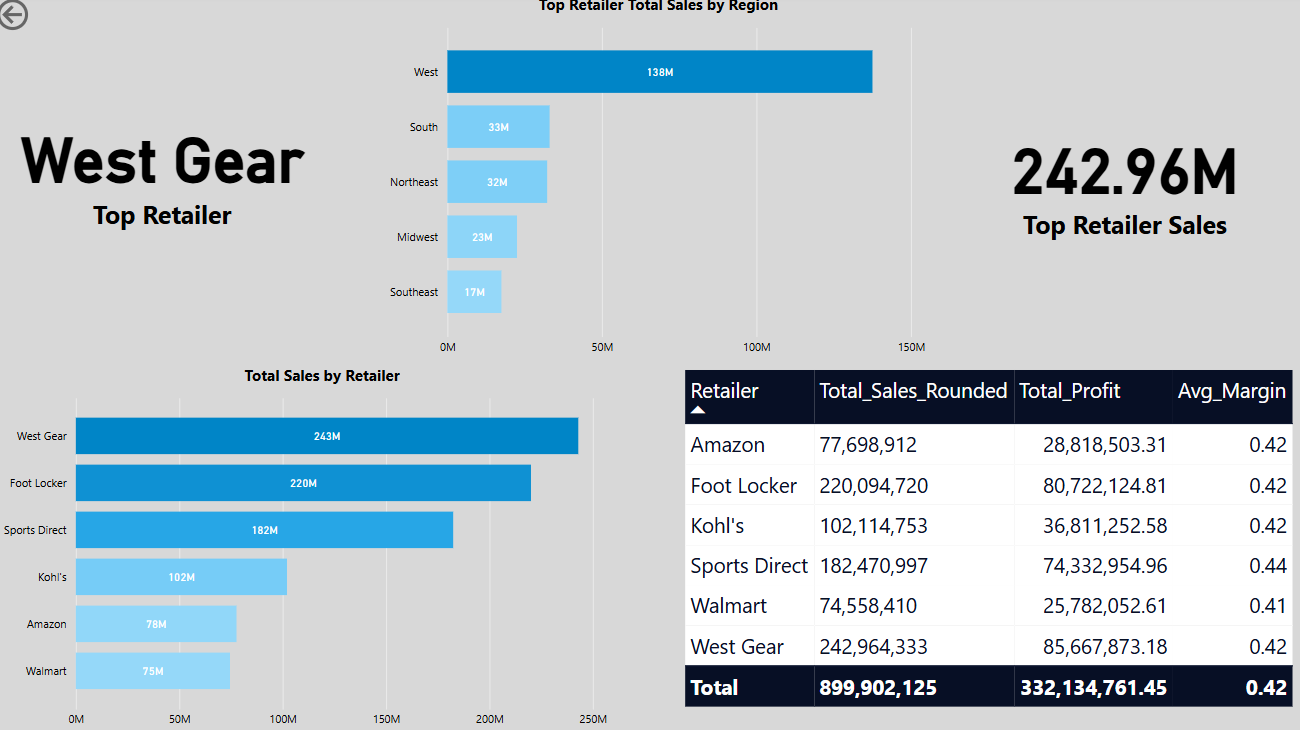

Layout of this report page (visuals, bound fields, positions):
{"tool":"powerbi","page":{"name":"Top Retailer","canvas":[1280,720],"ordinal":4},"visuals":[{"type":"card","fields":{"Values":["Data Sales Adidas.Top Retailer"]},"box":[9.4,0,311.8,338.3],"z":0},{"type":"clusteredBarChart","title":"Total Sales by Retailer","fields":{"Y":["Data Sales Adidas.Total_Sales"],"Category":["Data Sales Adidas.Retailer"]},"box":[0,359.1,640.6,360.9],"z":1000},{"type":"tableEx","fields":{"Values":["Data Sales Adidas.Retailer","Data Sales Adidas.Total_Sales_Rounded","Data Sales Adidas.Total_Profit","Data Sales Adidas.Avg_Margin"]},"box":[667.1,359.1,612.3,360.9],"z":2000},{"type":"card","fields":{"Values":["Data Sales Adidas.Top Retailer Sales"]},"box":[918.4,0,360.9,359.1],"z":3000},{"type":"clusteredBarChart","title":"Top Retailer Total Sales by Region","fields":{"Category":["Data Sales Adidas.Region"],"Y":["Data Sales Adidas.Total_Sales"]},"box":[376.1,0,542.4,359.1],"z":4000},{"type":"actionButton","box":[0,0,100,40],"z":5000}]}

Visuals, with their boxes in screenshot pixels (x1, y1, x2, y2), scaled from the page's 1280x720 canvas onto the 1300x730 screenshot:
card - Data Sales Adidas.Top Retailer: <box>10,0,326,343</box>
"Total Sales by Retailer" clusteredBarChart: <box>0,364,651,729</box>
tableEx - Data Sales Adidas.Retailer x Data Sales Adidas.Total_Sales_Rounded: <box>678,364,1299,729</box>
card - Data Sales Adidas.Top Retailer Sales: <box>933,0,1299,364</box>
"Top Retailer Total Sales by Region" clusteredBarChart: <box>382,0,933,364</box>
actionButton: <box>0,0,102,41</box>
